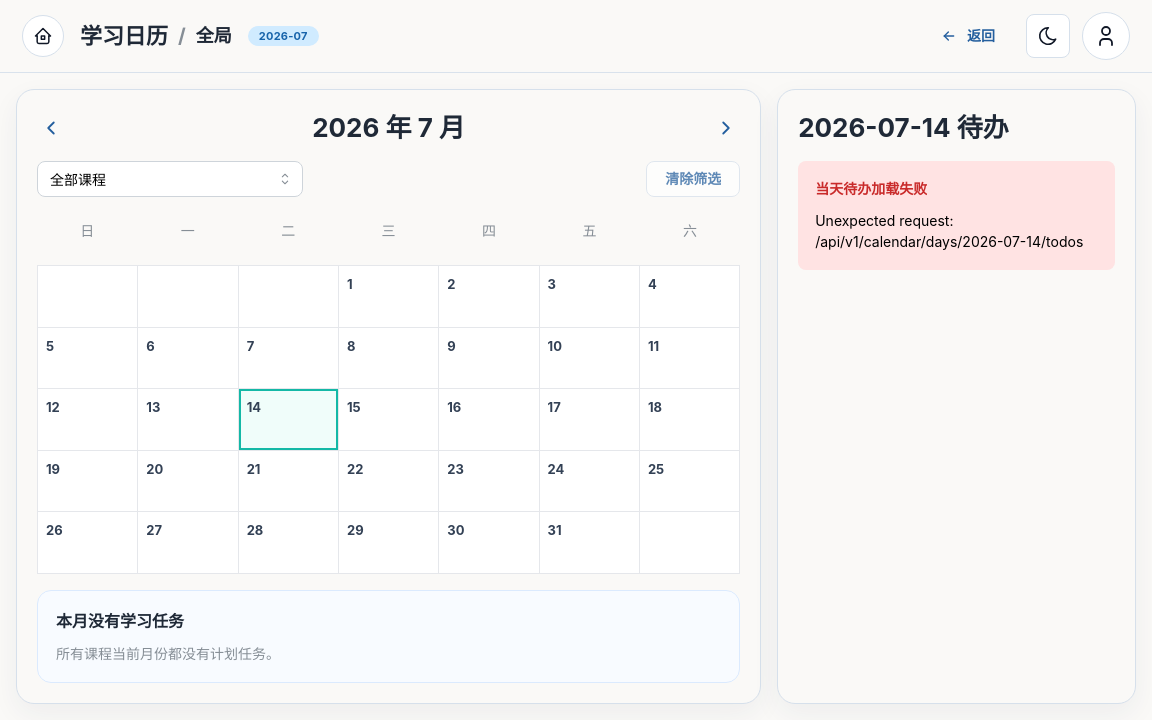
Test case: CalendarPage › lets users manually filter the global calendar by course and clear the filter
Click the dropdown named "课程筛选" at (170, 179), box [37,161,303,197]
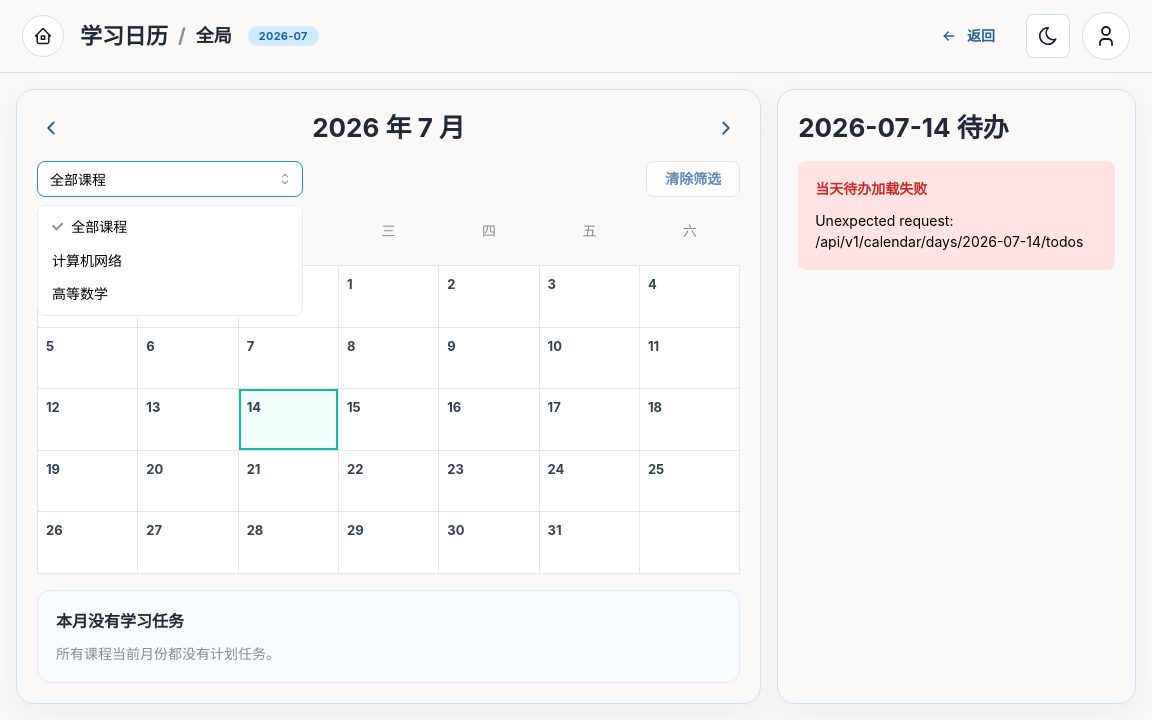
Click the option "计算机网络" at (87, 260), box [52,252,122,269]
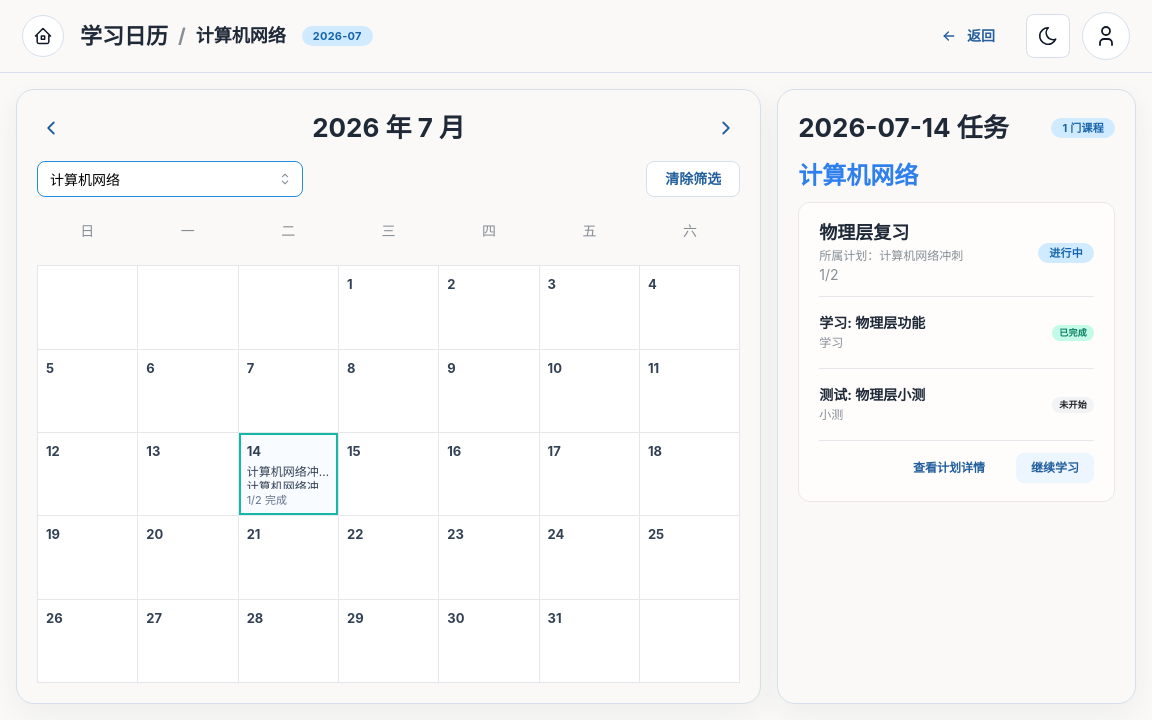
Now the text "物理层复习" is shown, box [819,222,909,243]
Now the dropdown named "课程筛选" holds "计算机网络", box [37,161,303,197]
Click the button with aria-label "清除课程筛选" at (693, 179), box [646,161,740,197]
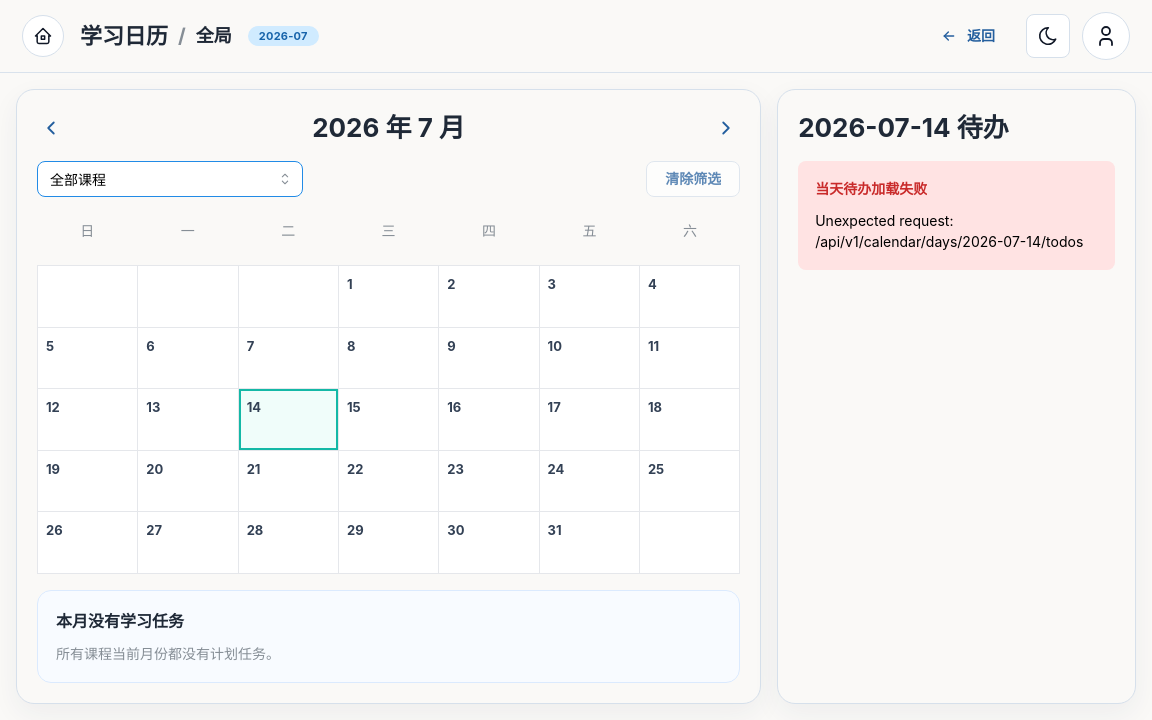
Now the dropdown named "课程筛选" holds "全部课程", box [37,161,303,197]
